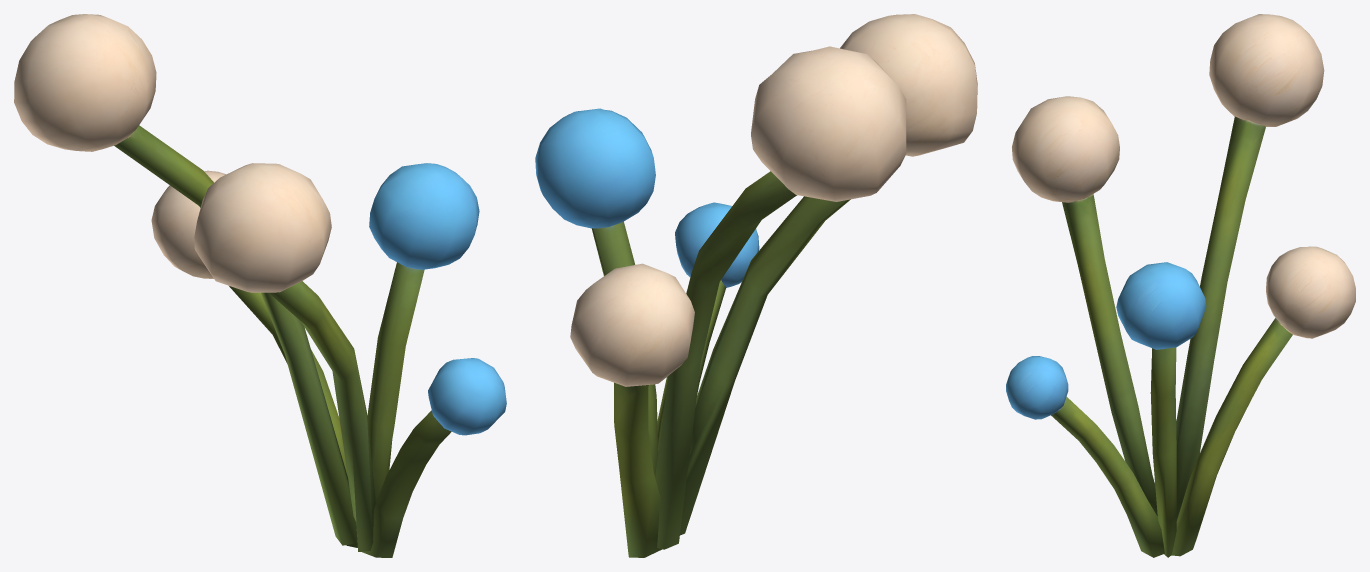
File: wildflowers.glb
The picture shows the model from 3 angles, left to right: view 1: azimuth 30°, elevation 25°; view 2: azimuth 150°, elevation 25°; view 3: azimuth 270°, elevation 25°; orthographic projection. The views are drawn at different scales.
Visible parts, largest first — view 1: tripo_node_551919ac-c385-43db-8bd2-d80c935bb4df; view 2: tripo_node_551919ac-c385-43db-8bd2-d80c935bb4df; view 3: tripo_node_551919ac-c385-43db-8bd2-d80c935bb4df.
Boxes of the visible parts, x1,y1,x2,y2 form: tripo_node_551919ac-c385-43db-8bd2-d80c935bb4df: [14, 14, 506, 557]; tripo_node_551919ac-c385-43db-8bd2-d80c935bb4df: [535, 14, 977, 557]; tripo_node_551919ac-c385-43db-8bd2-d80c935bb4df: [1006, 14, 1355, 557].
Size of the model in its own units: 0.7363 by 0.998 by 0.7129.
1 material, 1 textured.
